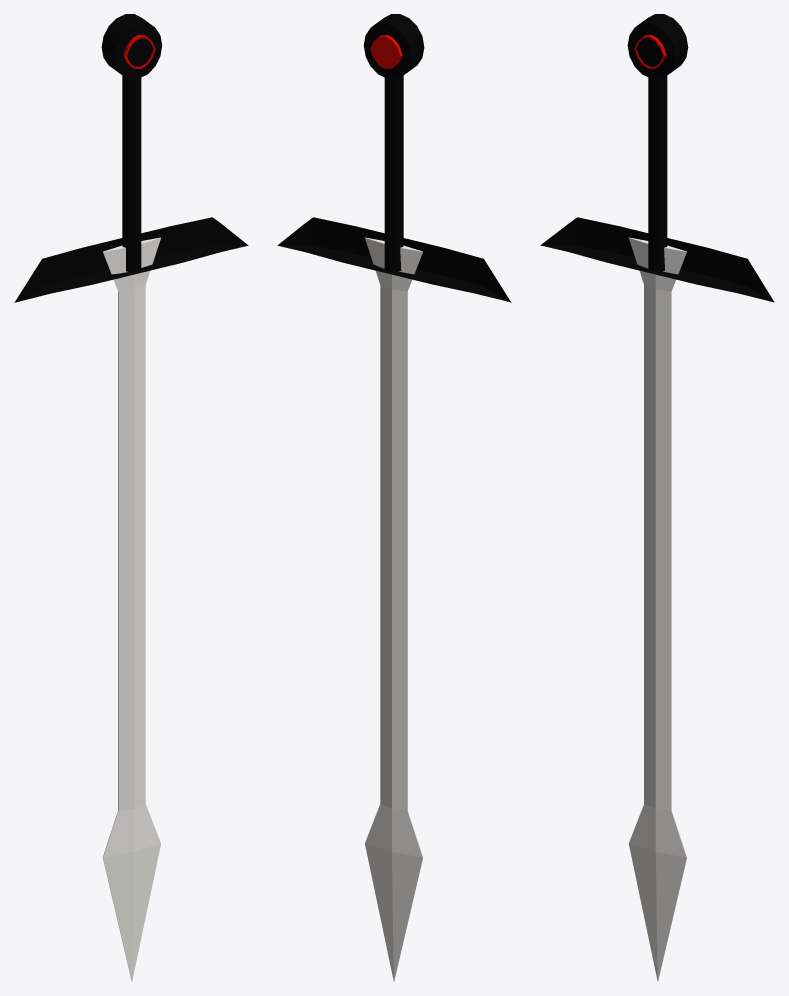
The model's file is espada.glb.
3 views of the same model, side by side, from view 1: azimuth 30°, elevation 25°; view 2: azimuth 150°, elevation 25°; view 3: azimuth 330°, elevation 25° (orthographic).
Visible parts, largest first — view 1: espada; view 2: espada; view 3: espada.
Part boxes in pixels (<box>): espada: <box>14,14,248,981</box>; espada: <box>277,14,511,981</box>; espada: <box>540,14,774,981</box>.
Size of the model in its own units: 1.86 by 7.31 by 0.238.
